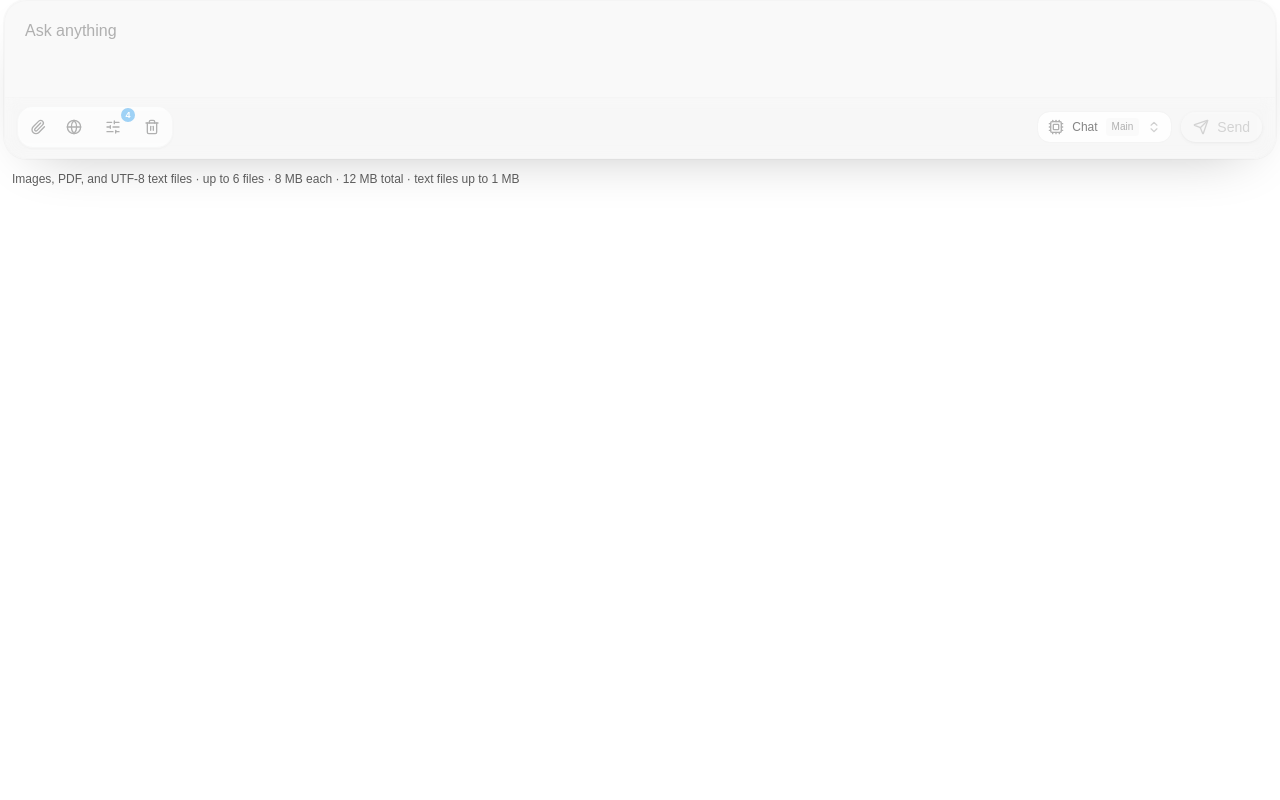
Test: playground attachment input › keeps the clear confirmation open and reports a failed clear instead of success
This screenshot has width=1280, height=800.
Click the button named "Clear chat history" at (152, 127), box [136, 111, 168, 143]
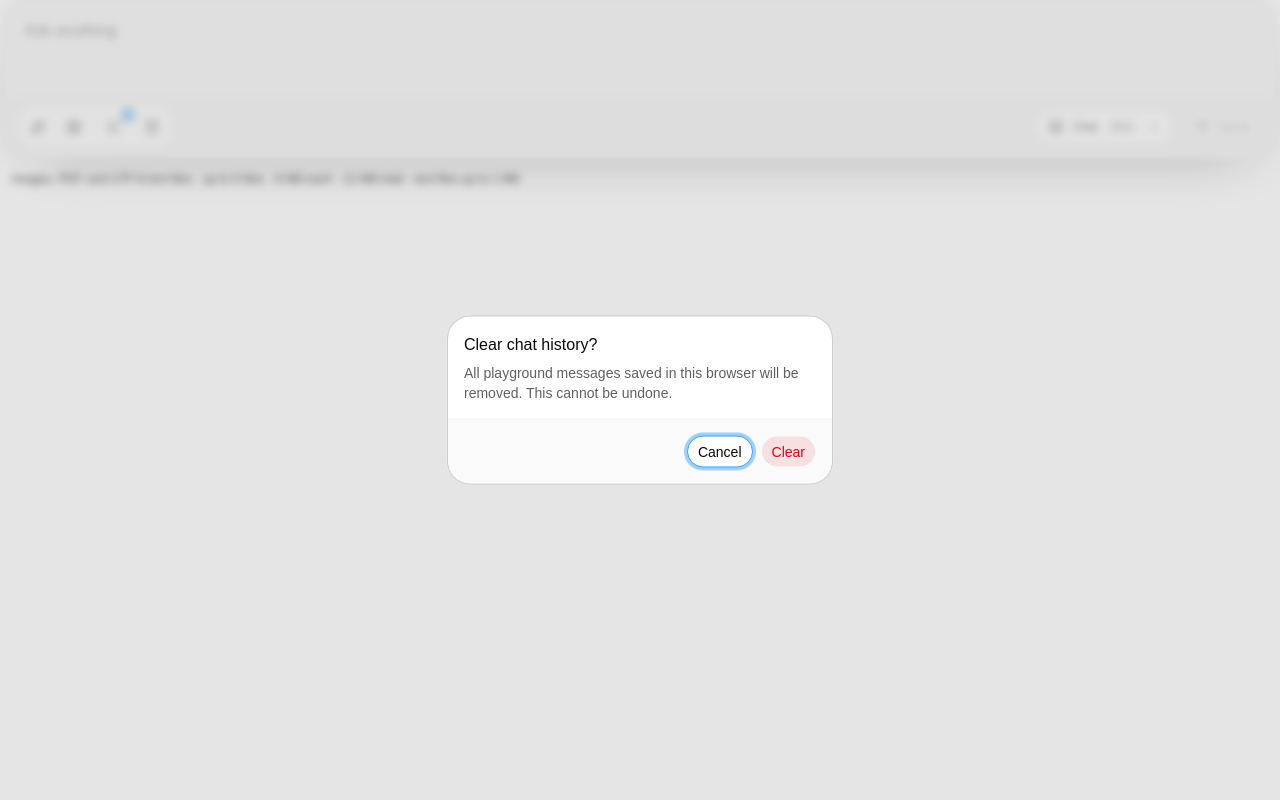
Click the button "Clear" at (788, 452), box [760, 436, 816, 468]
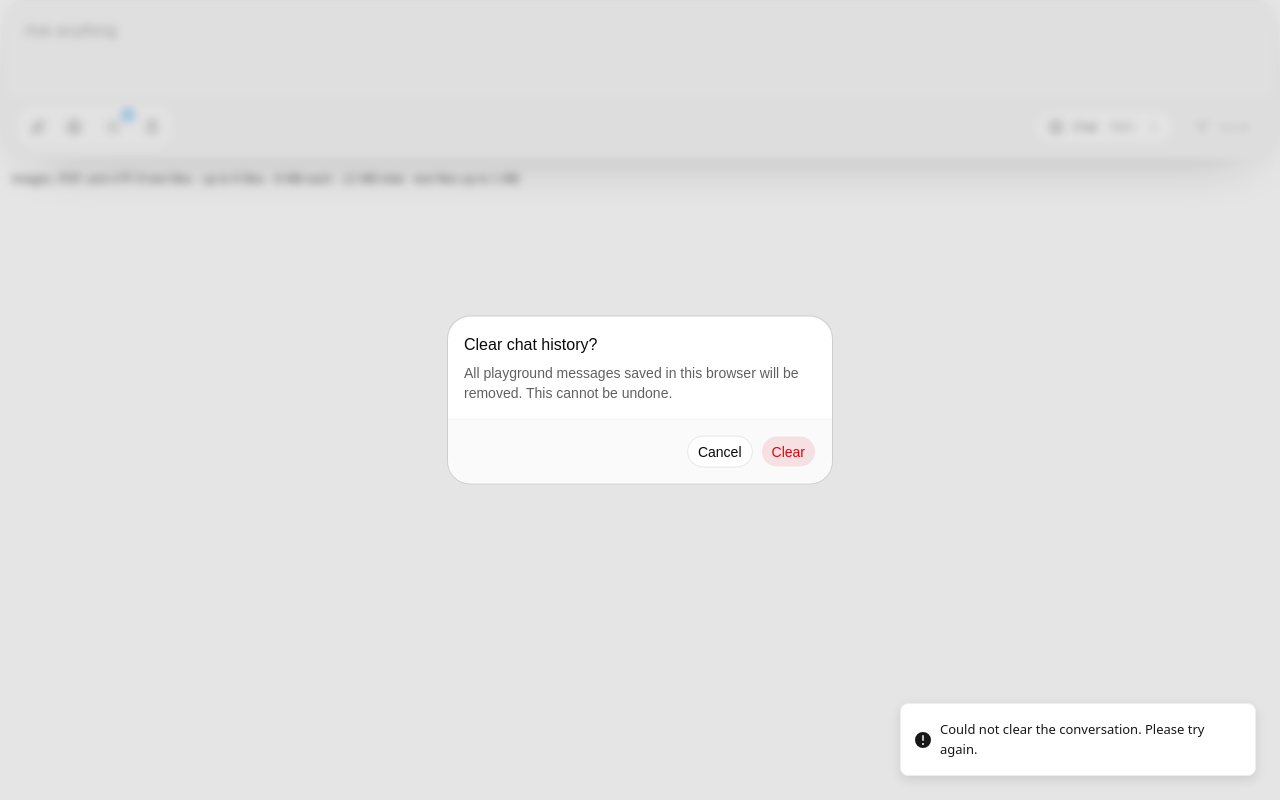
Expected: the dialog is shown, [448, 316, 832, 484]
Expected: the text "Could not clear the conversation. Please try again." is shown, [940, 720, 1239, 759]
